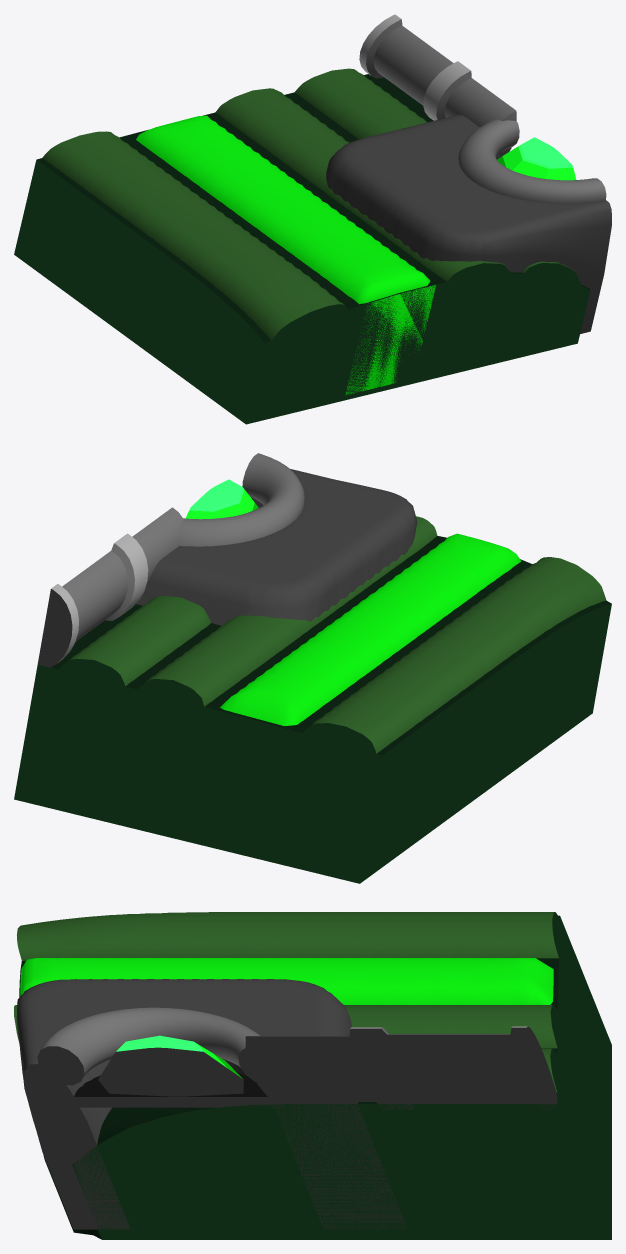
File: green_shell_231.glb
3 views of the same model, one above another, from view 1: azimuth 30°, elevation 25°; view 2: azimuth 150°, elevation 25°; view 3: azimuth 270°, elevation 25° (orthographic). The views are drawn at different scales.
Parts seen in each view (by area): view 1: green_shell_231; view 2: green_shell_231; view 3: green_shell_231.
Part boxes in pixels (x1=…): green_shell_231: x1=14, y1=14, x2=611, y2=424; green_shell_231: x1=14, y1=453, x2=611, y2=883; green_shell_231: x1=14, y1=912, x2=611, y2=1239.
Bounding box in the file's own units: 24 × 12.18 × 31.12.
